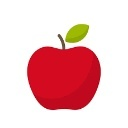apple: (24, 38, 103, 113)
